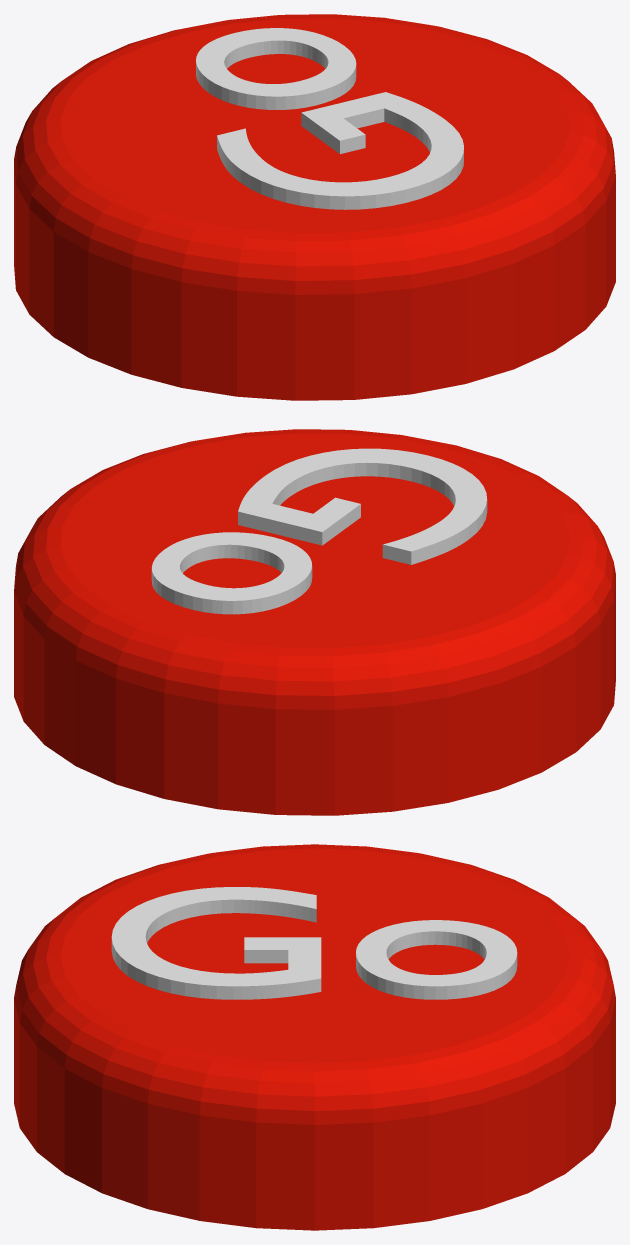
Rendered from button_go.fbx.
The picture shows the model from 3 angles, top to bottom: view 1: azimuth 30°, elevation 25°; view 2: azimuth 150°, elevation 25°; view 3: azimuth 270°, elevation 25°; orthographic projection.
Visible parts, largest first — view 1: Cylinder.004; view 2: Cylinder.004; view 3: Cylinder.004.
Boxes of the visible parts, x1=… form: Cylinder.004: x1=14, y1=14, x2=615, y2=400; Cylinder.004: x1=14, y1=429, x2=615, y2=815; Cylinder.004: x1=14, y1=844, x2=615, y2=1230.
Size of the model in its own units: 50.02 by 14.76 by 50.02.
